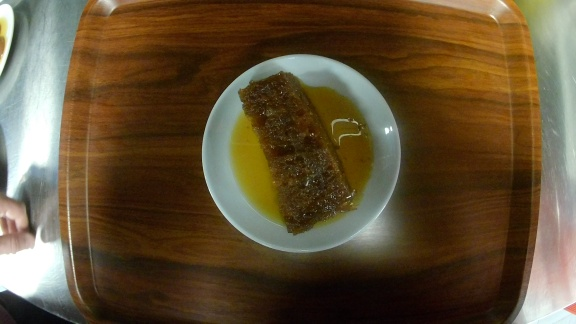ekmekkadayifi: (202, 54, 401, 252)
